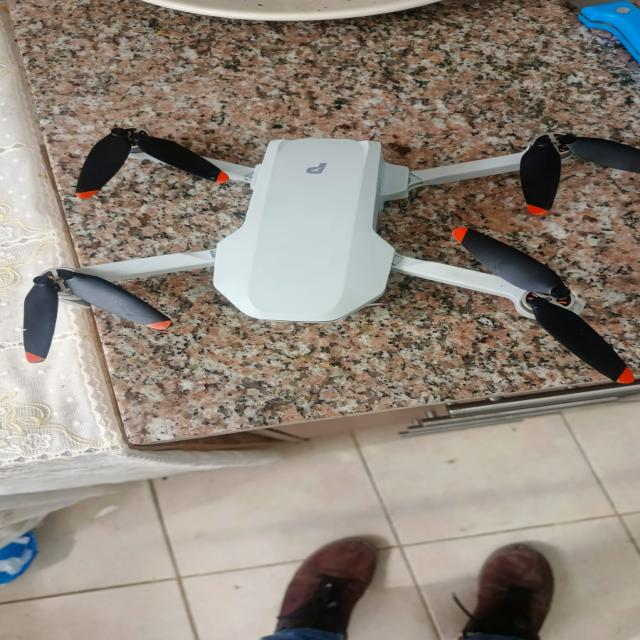dron: (9, 116, 640, 396)
